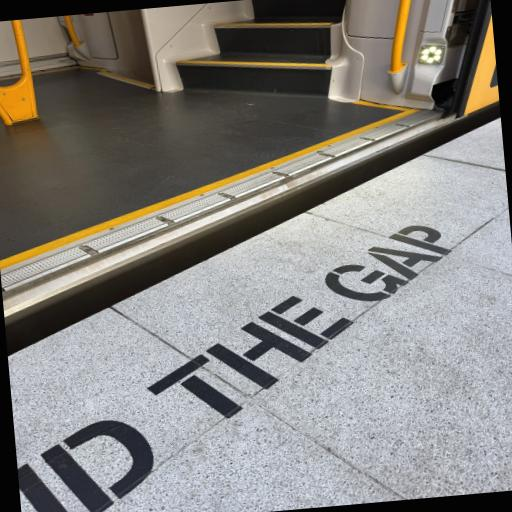gap: (6, 99, 501, 357)
